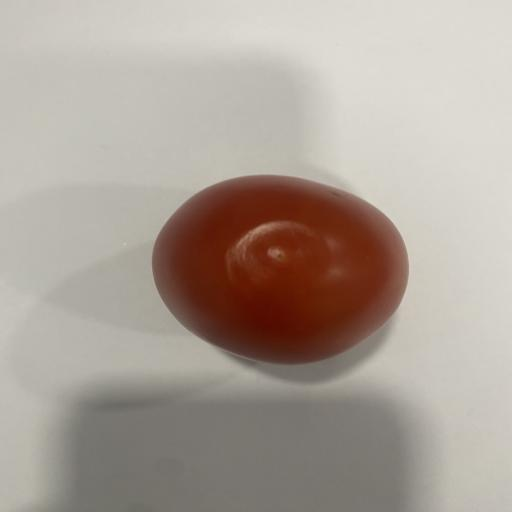overipe: (152, 175, 409, 364)
